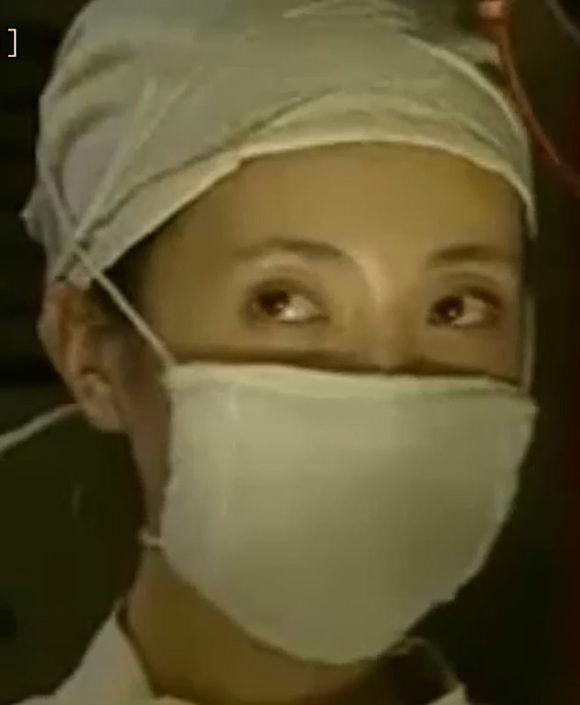OK: (146, 221, 538, 646)
